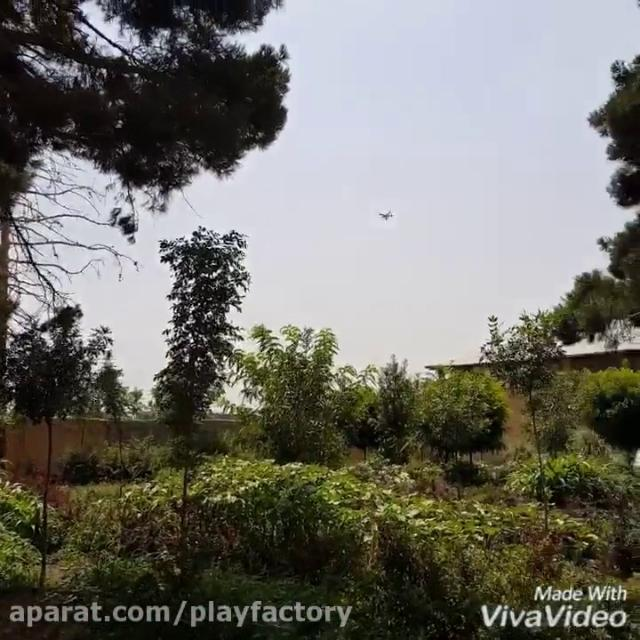drone: (372, 204, 401, 222)
